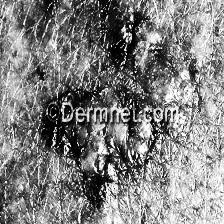Benign Marking or Mole: (47, 86, 156, 184)
